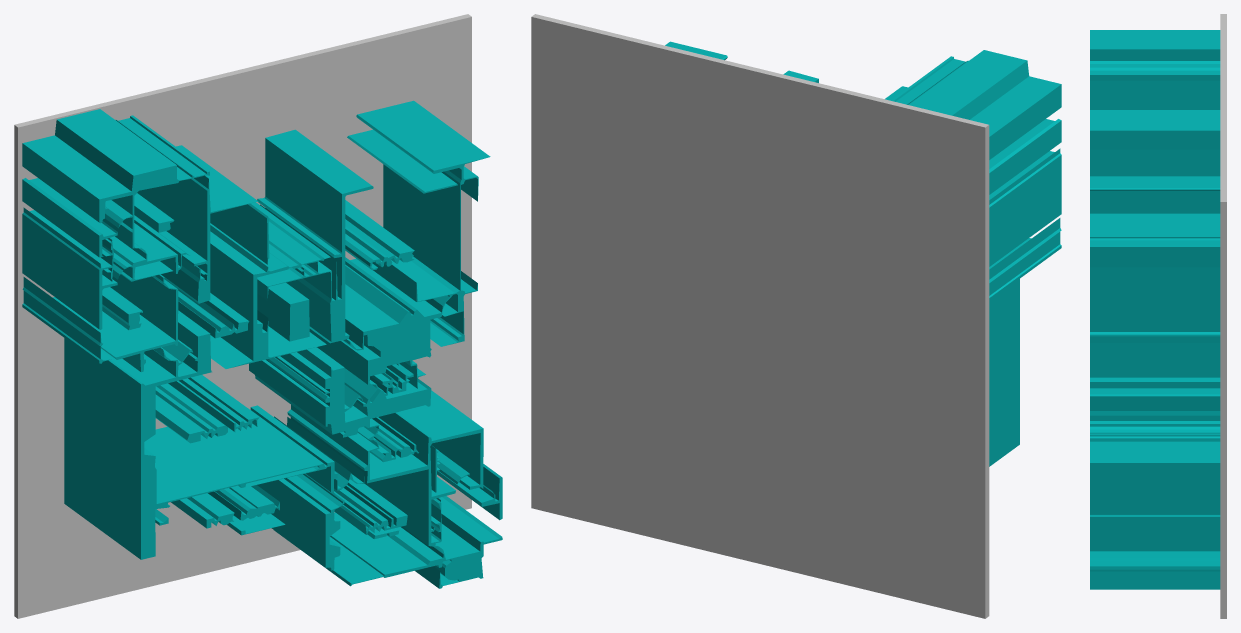
The picture shows the model from 3 angles, left to right: view 1: azimuth 30°, elevation 25°; view 2: azimuth 150°, elevation 25°; view 3: azimuth 270°, elevation 25°; orthographic projection. The views are drawn at different scales.
Visible parts, largest first — view 1: world; view 2: world; view 3: world.
Part boxes in pixels (bbox=[...]): world: bbox=[14, 14, 502, 618]; world: bbox=[531, 14, 1061, 618]; world: bbox=[1090, 14, 1226, 618].
Bounding box in the file's own units: 10.23 × 10.58 × 3.15.
